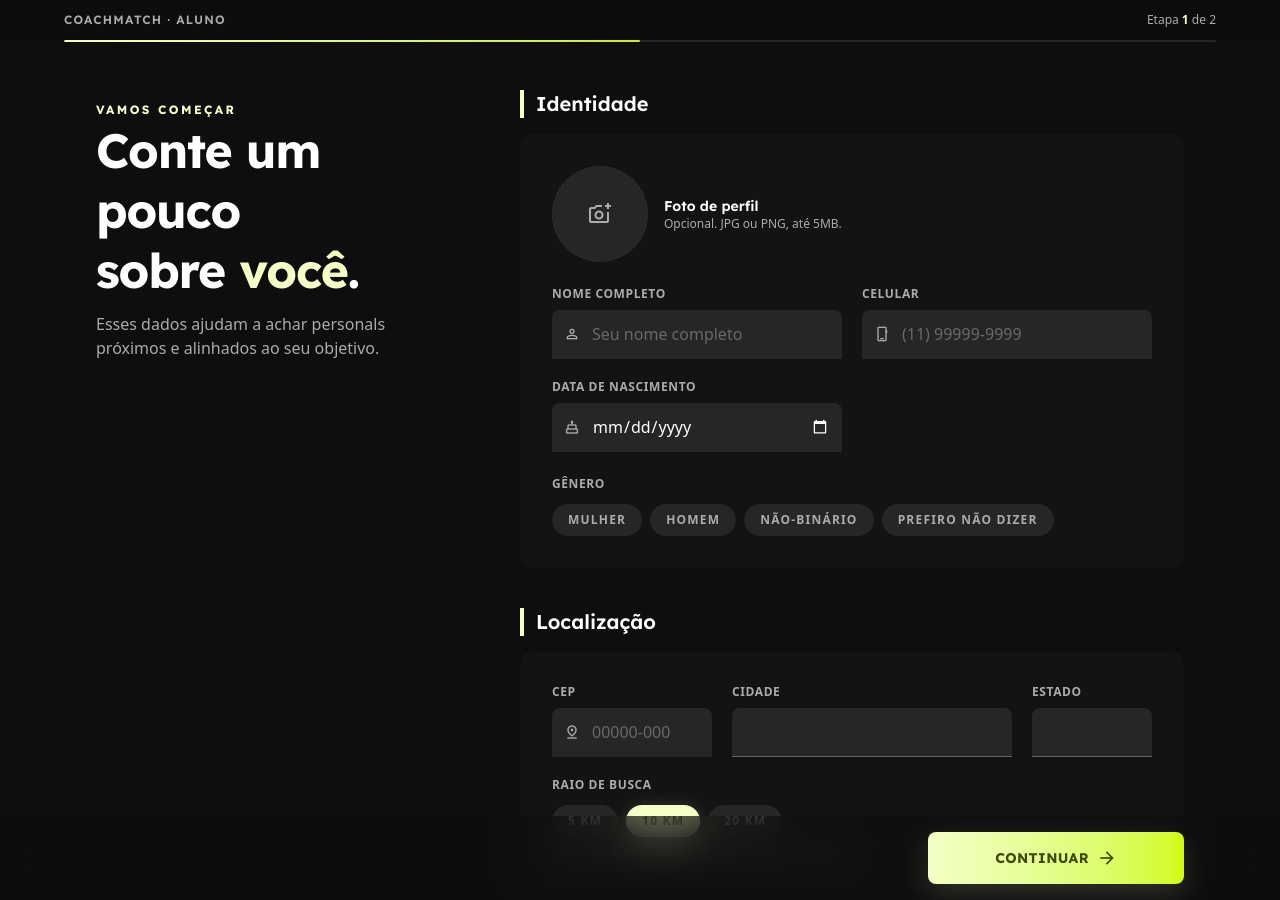
Test: ClientOnboardingPage › mantém o formulário na tela quando o CEP ainda não foi encontrado
Type "Ana Ferreira" into the field labelled "Nome completo" at coordinates (711, 334), box [592,322,830,346]
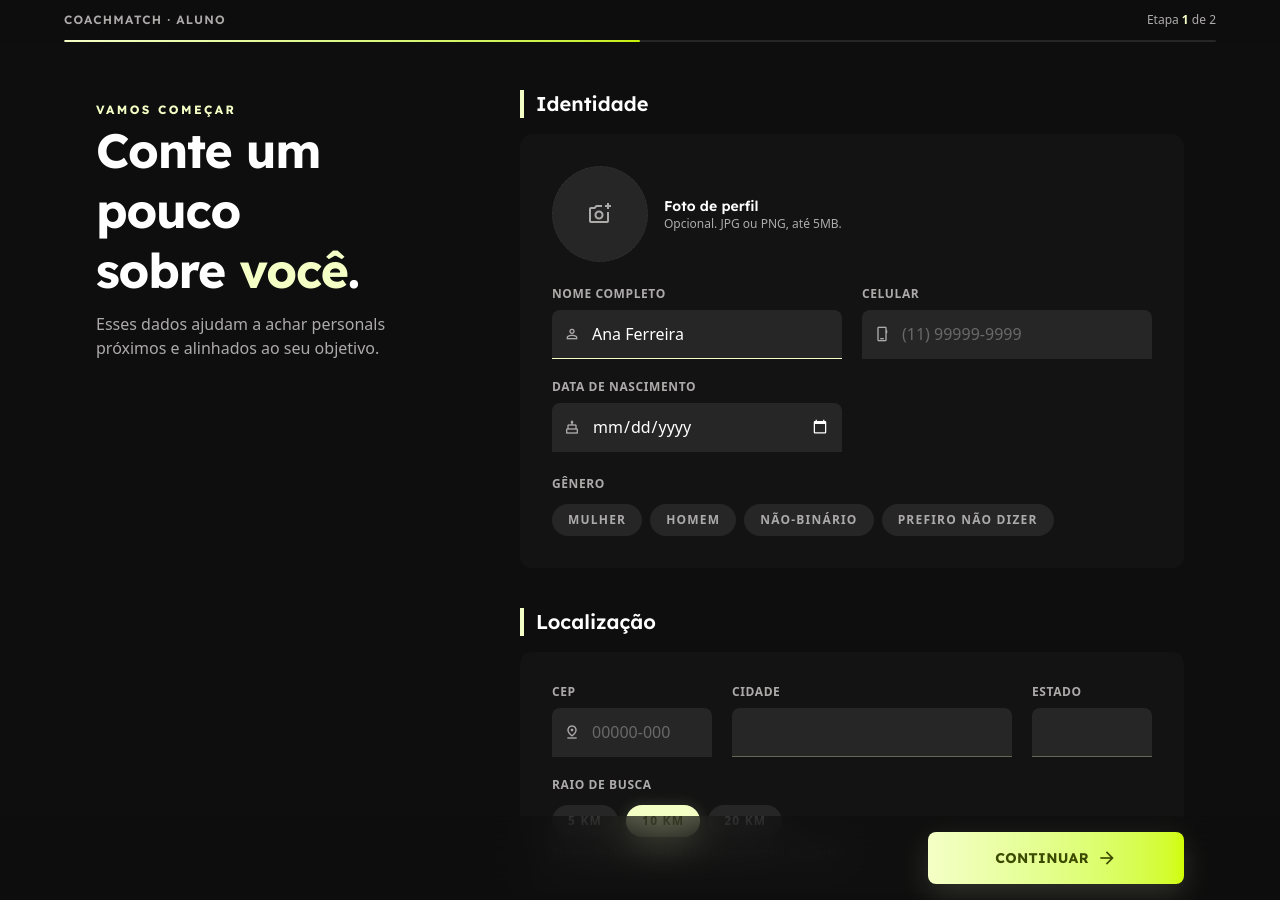
Type "11987654321" into the field with placeholder "(11) 99999-9999" at coordinates (1021, 334), box [902,322,1140,346]
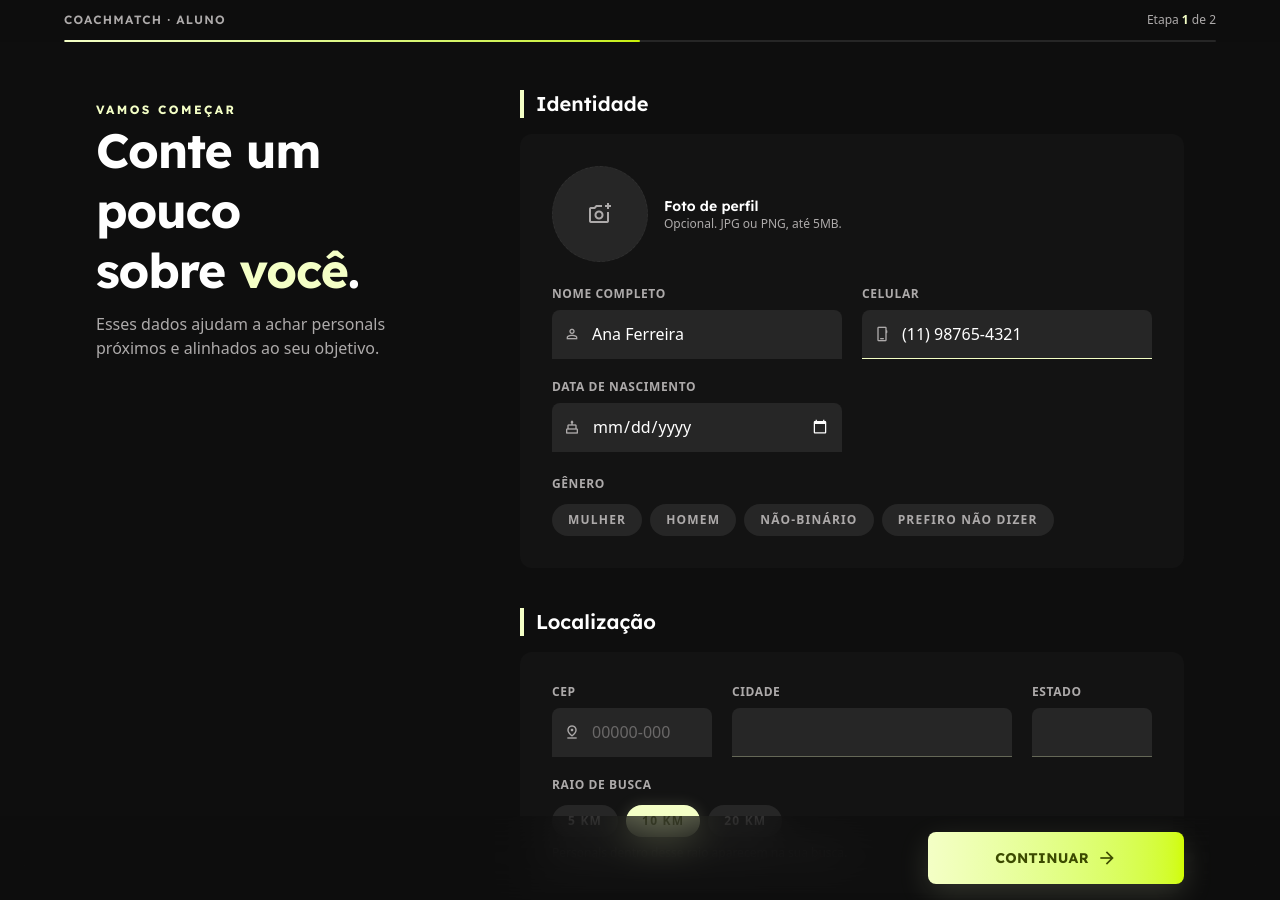
Type "1990-05-20" into the date field labelled "Data de nascimento" at coordinates (711, 427), box [592,415,830,439]
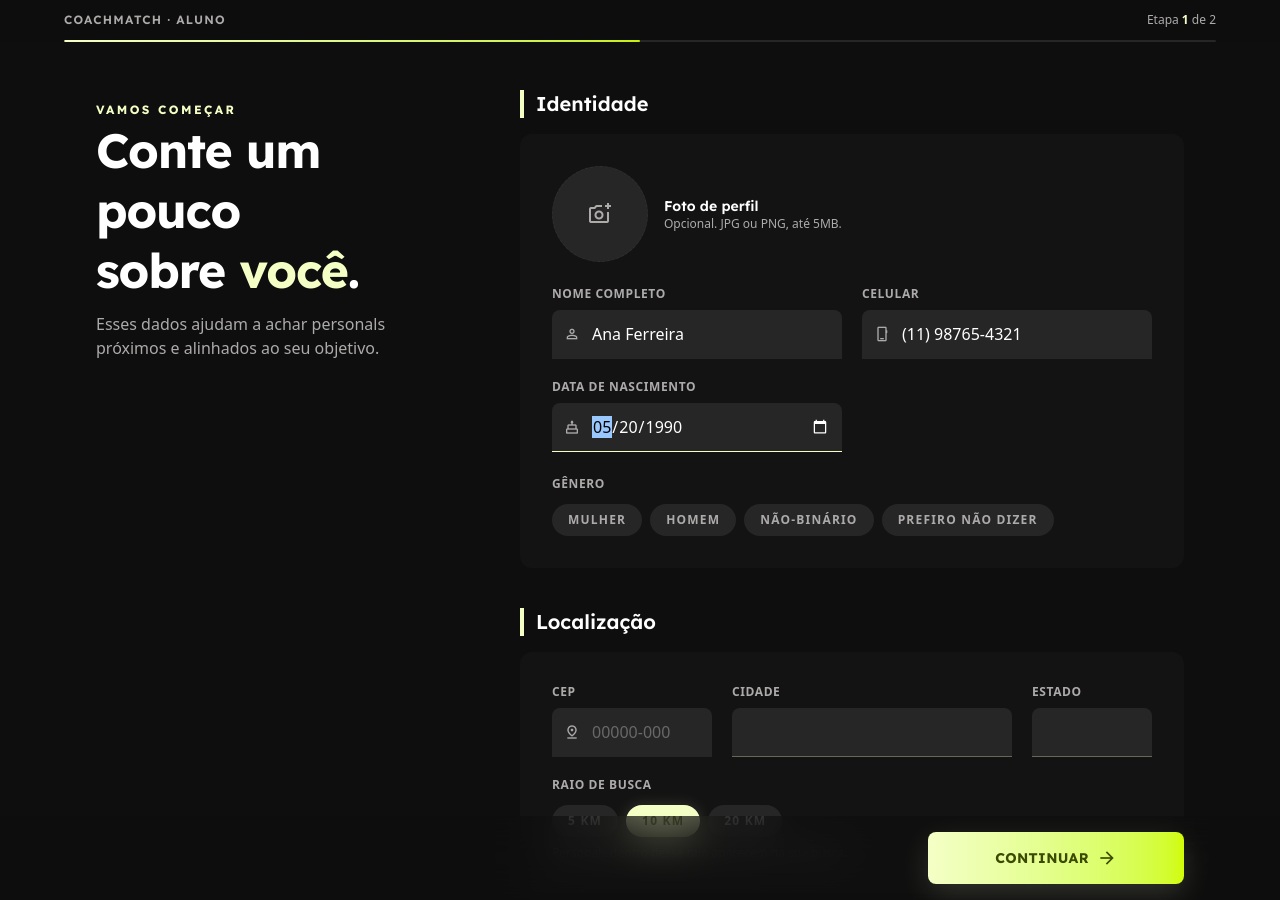
Click the button "Mulher" at coordinates (597, 520), box [552,504,642,536]
(page scrolled)
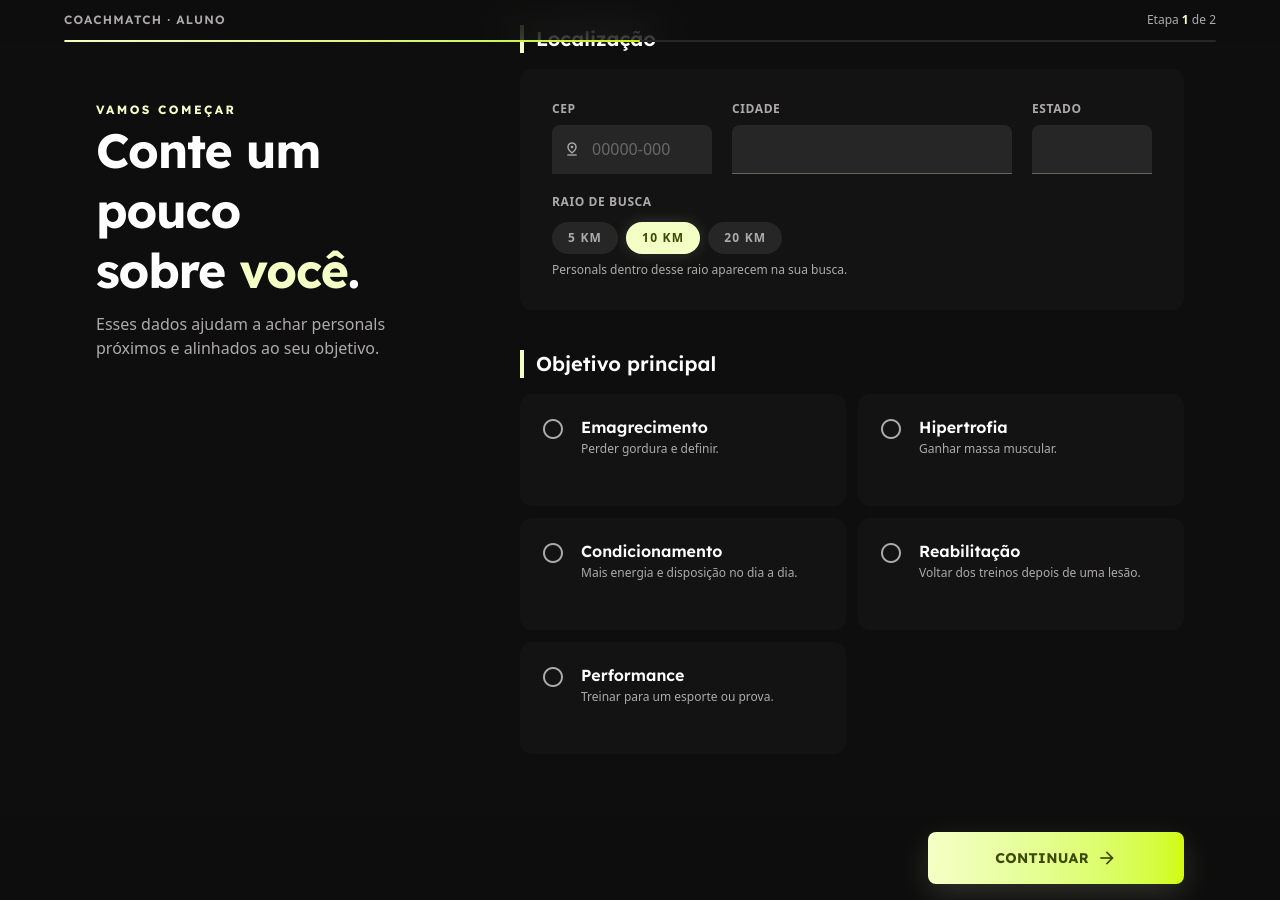
Click the button "Emagrecimento Perder gordura e definir." at coordinates (683, 450), box [520,394,846,506]
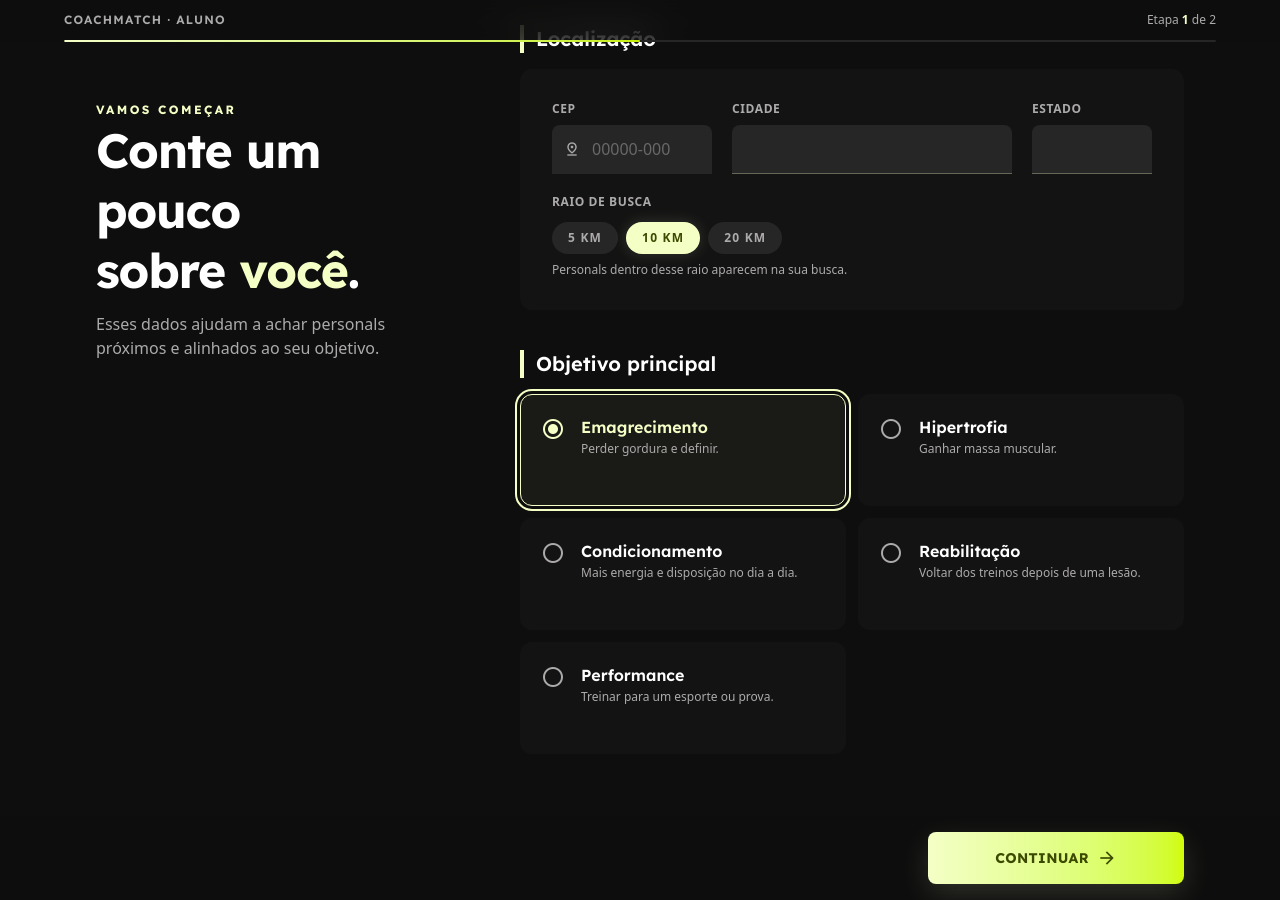
Click the button "CONTINUAR" at coordinates (1056, 858), box [928,832,1184,884]
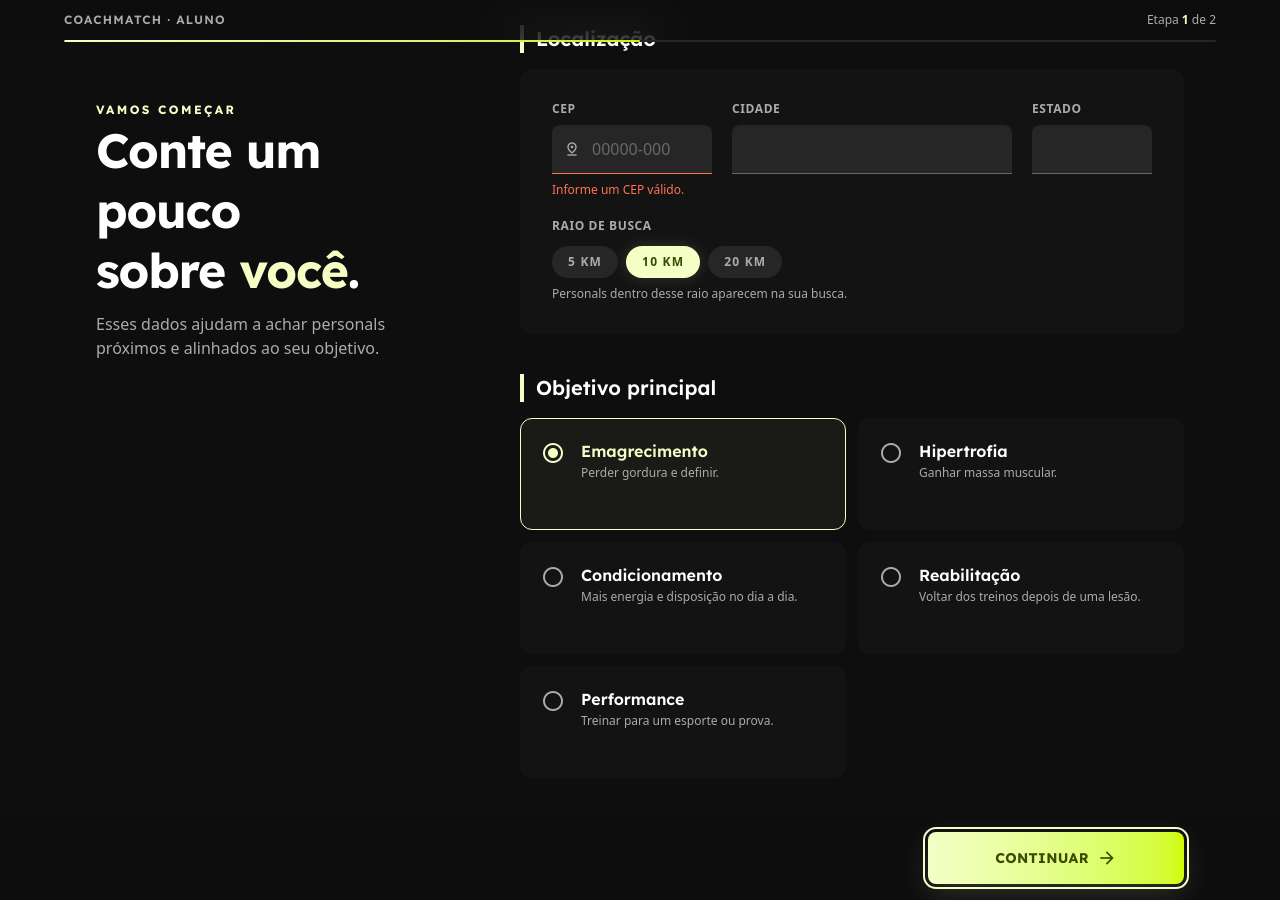
Result: the text "Informe um CEP válido." is shown at [552,181,684,198]
